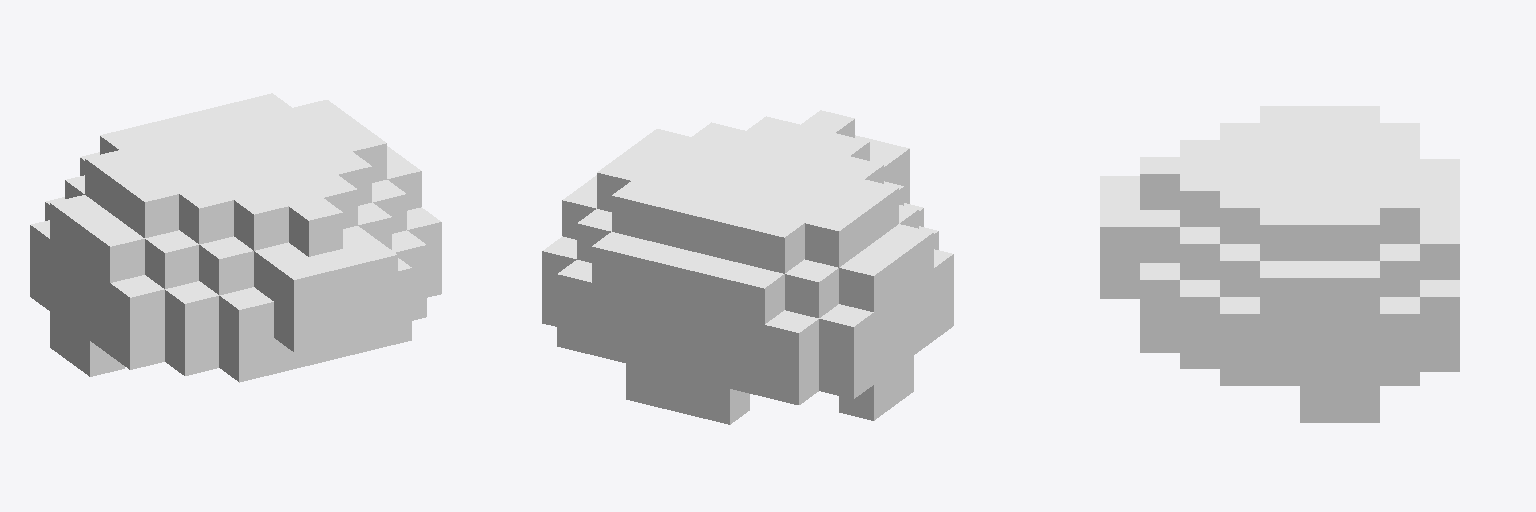
Rendered from mod_headlight1.obj.
The picture shows the model from 3 angles: view 1: azimuth 30°, elevation 25°; view 2: azimuth 150°, elevation 25°; view 3: azimuth 270°, elevation 25°; orthographic projection.
Bounding box in the file's own units: 9 × 5 × 9.